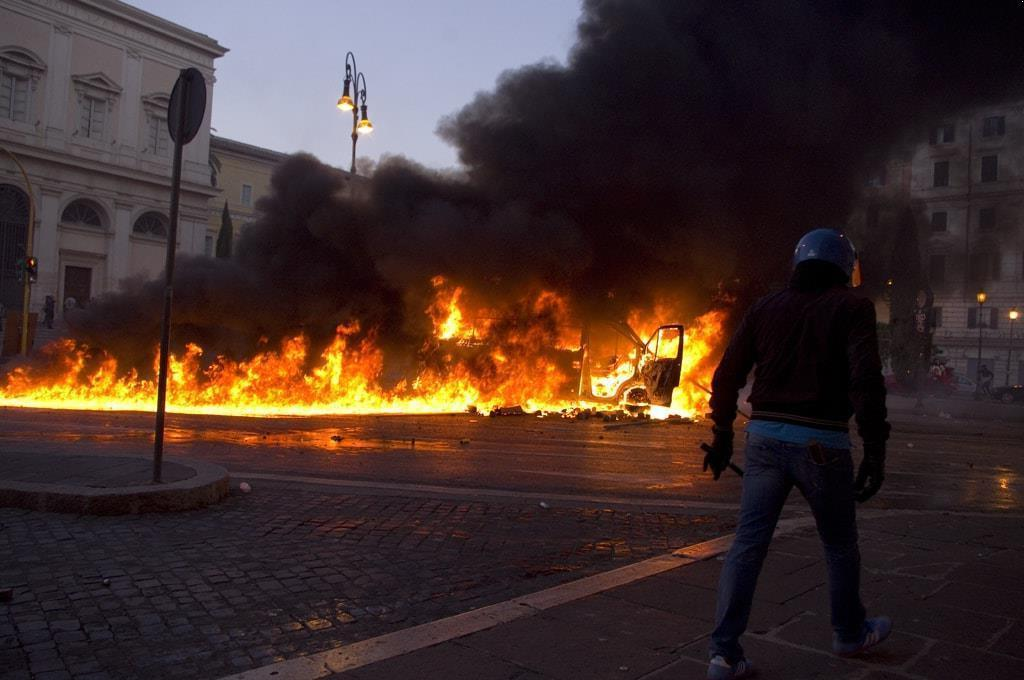Fire: (3, 263, 750, 418)
